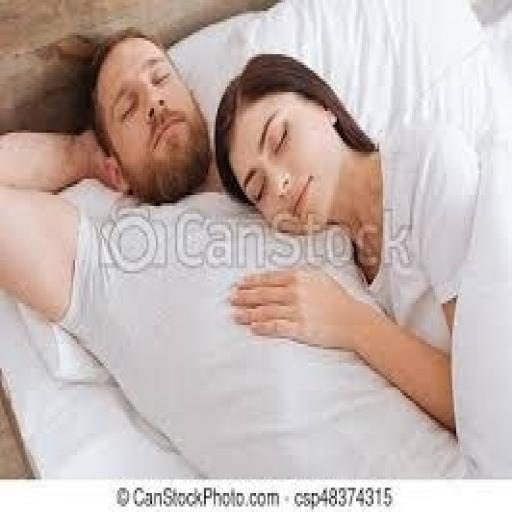sleeping: (212, 49, 483, 436)
